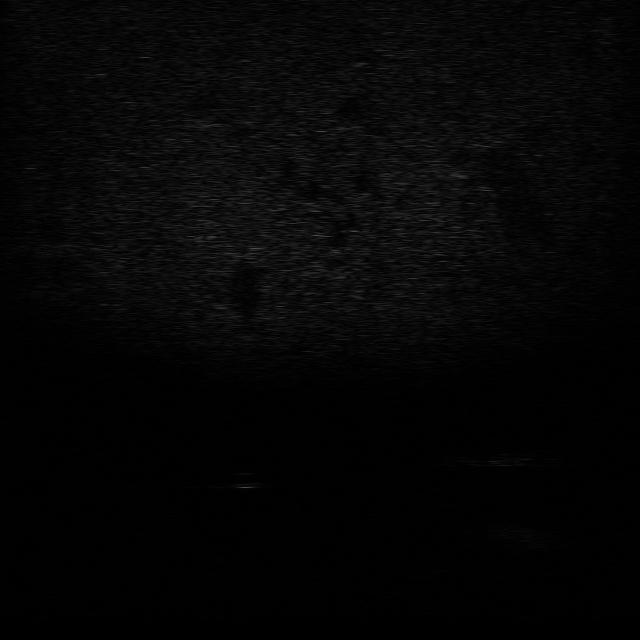ball: (222, 468, 268, 491)
circle cage: (475, 513, 573, 552)
human body: (440, 446, 559, 470)
